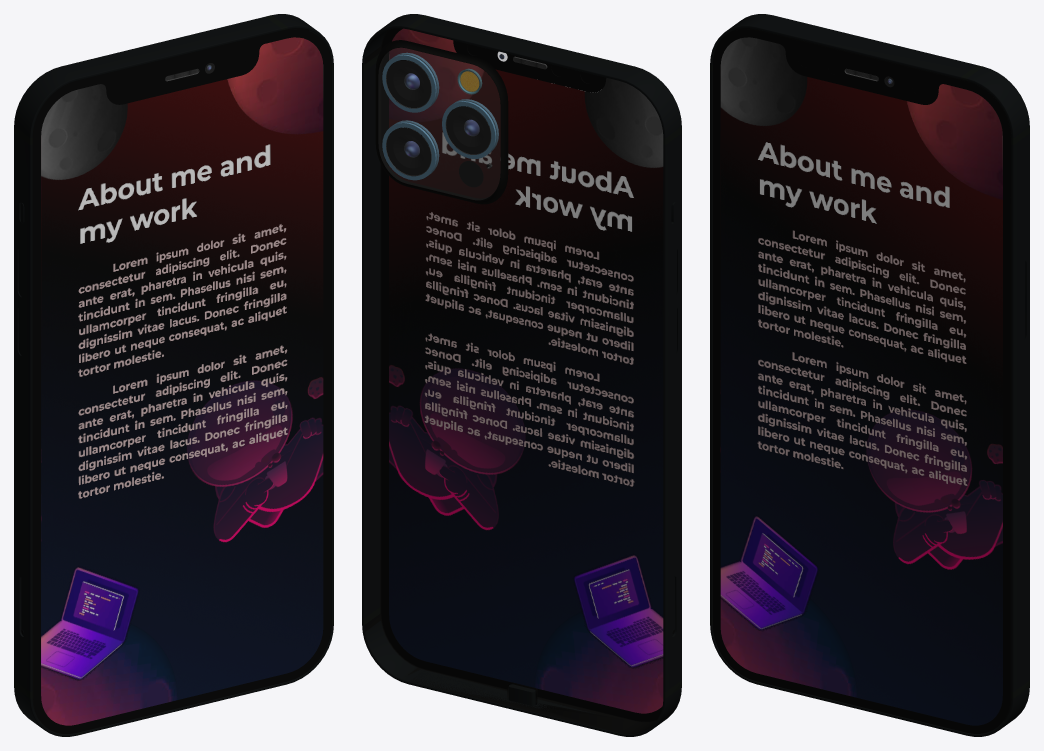
File: phoneblack.glb
3 views of the same model, side by side, from view 1: azimuth 30°, elevation 25°; view 2: azimuth 150°, elevation 25°; view 3: azimuth 330°, elevation 25° (orthographic).
Visible parts, largest first — view 1: Screen, iPhone 12 Pro, Bezel, iPhone12 Pro; view 2: Screen, iPhone 12 Pro, Bezel, CameraModule.001, iPhone12 Pro, Camera2, Camera1, Camera3; view 3: Screen, iPhone 12 Pro, Bezel, iPhone12 Pro.
Boxes of the visible parts, left/top/right/bottom form: Screen: left=41, top=37, right=323, bottom=725; iPhone 12 Pro: left=14, top=14, right=333, bottom=736; Bezel: left=33, top=29, right=330, bottom=733; iPhone12 Pro: left=32, top=28, right=331, bottom=734; Screen: left=389, top=28, right=663, bottom=713; iPhone 12 Pro: left=362, top=14, right=681, bottom=736; Bezel: left=381, top=28, right=662, bottom=721; CameraModule.001: left=378, top=48, right=500, bottom=199; iPhone12 Pro: left=364, top=29, right=656, bottom=734; Camera2: left=382, top=120, right=439, bottom=180; Camera1: left=382, top=52, right=439, bottom=112; Camera3: left=442, top=99, right=498, bottom=158; Screen: left=720, top=37, right=1002, bottom=725; iPhone 12 Pro: left=710, top=14, right=1029, bottom=736; Bezel: left=713, top=29, right=1010, bottom=733; iPhone12 Pro: left=712, top=28, right=1011, bottom=734.
Size of the model in its own units: 48.13 by 98.5 by 5.56.
Materials: 17 (4 with a texture image).
